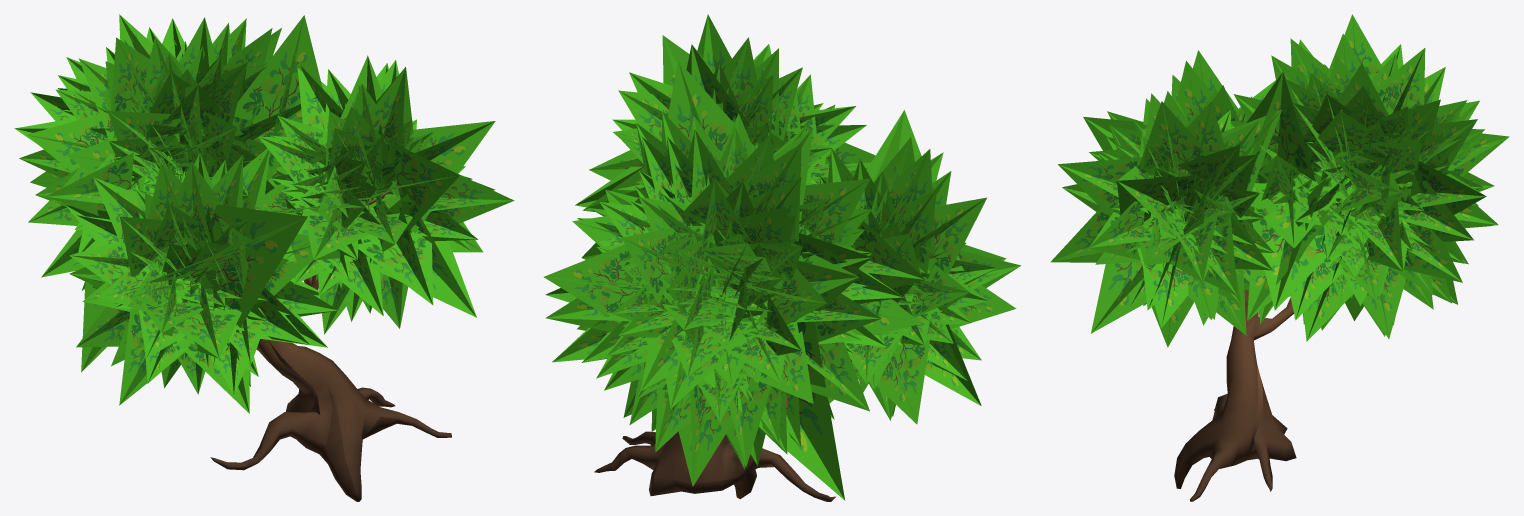
File: Tree_5B.fbx
3 views of the same model, side by side, from view 1: azimuth 30°, elevation 25°; view 2: azimuth 150°, elevation 25°; view 3: azimuth 270°, elevation 25° (orthographic). The views are drawn at different scales.
Visible parts, largest first — view 1: Tree_5B; view 2: Tree_5B; view 3: Tree_5B.
Boxes of the visible parts, x1,y1,x2,y2 form: Tree_5B: [14, 14, 514, 501]; Tree_5B: [544, 14, 1021, 501]; Tree_5B: [1050, 14, 1509, 501].
Size of the model in its own units: 1227 by 1383 by 1376.
